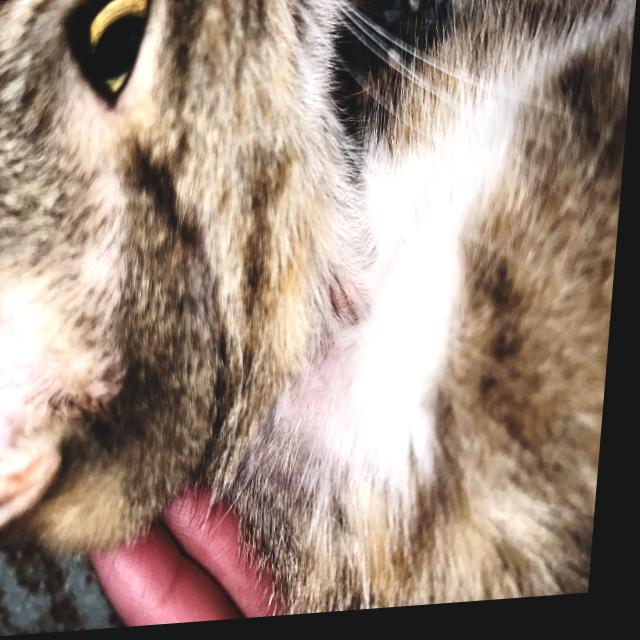hairloss: (303, 273, 366, 373)
